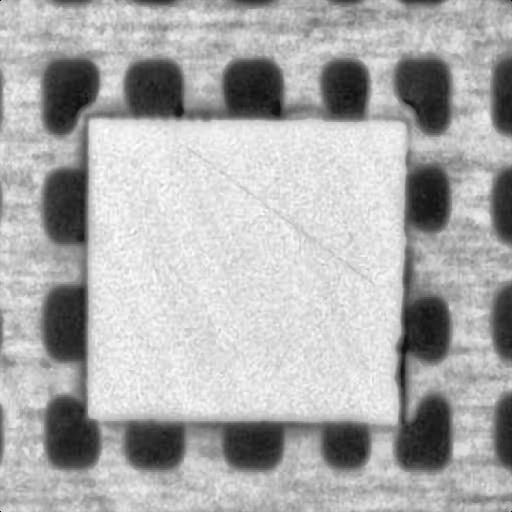DIE_CRACK: (244, 108, 492, 212)
